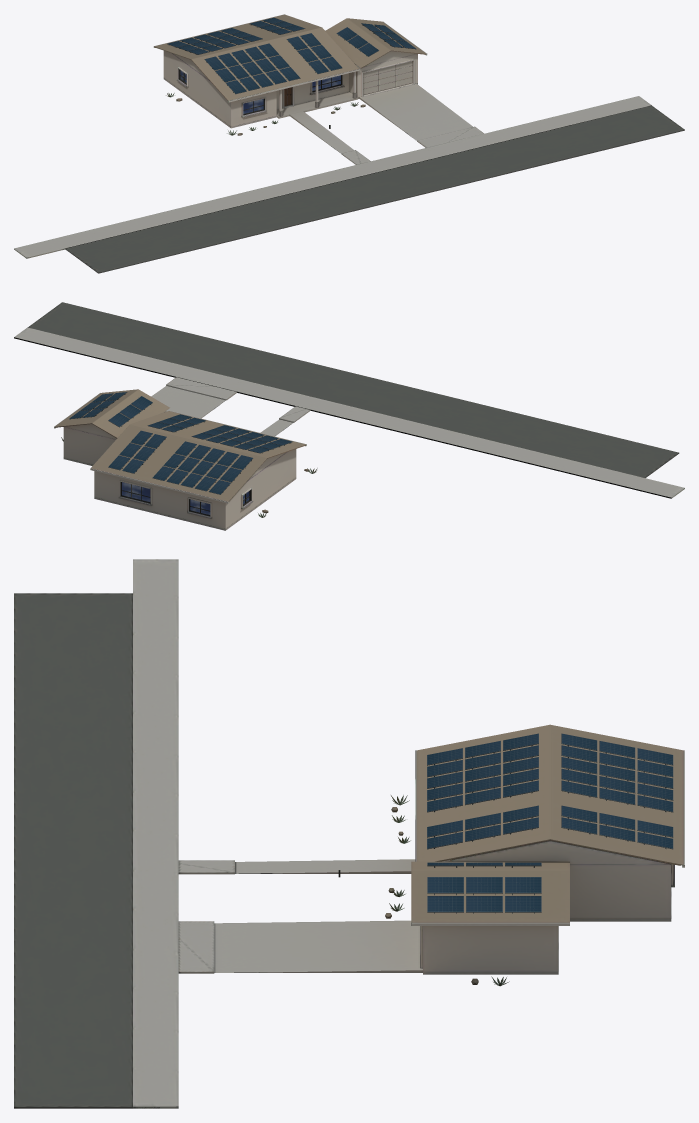
Rendered from house.glb.
3 renders of one model, top to bottom at view 1: azimuth 30°, elevation 25°; view 2: azimuth 150°, elevation 25°; view 3: azimuth 270°, elevation 25°, orthographic. The views are drawn at different scales.
Visible parts, largest first — view 1: ENV_STREET, ENV_SIDEWALK, PART_COBERTURA_PRINCIPAL, PART_CORPO_PRINCIPAL, PART_ACESSO_GARAGEM, PART_COBERTURA_GARAGEM, PART_PORTAO_GARAGEM, ENV_PAVEMENTCONNECTIONS, PART_CAMINHO_ENTRADA, PART_VARANDA, PART_GARAGEM; view 2: ENV_STREET, ENV_SIDEWALK, PART_COBERTURA_PRINCIPAL, PART_CORPO_PRINCIPAL, PART_COBERTURA_GARAGEM, PART_ACESSO_GARAGEM, PART_GARAGEM, ENV_PAVEMENTCONNECTIONS, PART_JANELA_FUNDOS_02, PART_BASE_APOIO_CORPO, PART_JANELA_FUNDOS_01; view 3: ENV_STREET, ENV_SIDEWALK, PART_COBERTURA_PRINCIPAL, PART_ACESSO_GARAGEM, PART_GARAGEM, PART_COBERTURA_GARAGEM, PART_CORPO_PRINCIPAL, ENV_PAVEMENTCONNECTIONS, PART_FECHAMENTO_EMPENAS_PRINCIPAL, PART_CAMINHO_ENTRADA.
Boxes of the visible parts, left/top/right/bottom form: ENV_STREET: left=65, top=105, right=684, bottom=273; ENV_SIDEWALK: left=14, top=96, right=651, bottom=258; PART_COBERTURA_PRINCIPAL: left=154, top=14, right=358, bottom=100; PART_CORPO_PRINCIPAL: left=163, top=50, right=349, bottom=126; PART_ACESSO_GARAGEM: left=359, top=83, right=472, bottom=140; PART_COBERTURA_GARAGEM: left=325, top=18, right=426, bottom=68; PART_PORTAO_GARAGEM: left=361, top=59, right=414, bottom=96; ENV_PAVEMENTCONNECTIONS: left=341, top=126, right=483, bottom=164; PART_CAMINHO_ENTRADA: left=289, top=111, right=353, bottom=153; PART_VARANDA: left=276, top=92, right=357, bottom=118; PART_GARAGEM: left=349, top=54, right=417, bottom=97; ENV_STREET: left=28, top=302, right=679, bottom=477; ENV_SIDEWALK: left=14, top=327, right=684, bottom=498; PART_COBERTURA_PRINCIPAL: left=91, top=411, right=306, bottom=501; PART_CORPO_PRINCIPAL: left=94, top=449, right=296, bottom=528; PART_COBERTURA_GARAGEM: left=55, top=389, right=169, bottom=438; PART_ACESSO_GARAGEM: left=151, top=385, right=225, bottom=418; PART_GARAGEM: left=63, top=427, right=115, bottom=464; ENV_PAVEMENTCONNECTIONS: left=166, top=377, right=310, bottom=422; PART_JANELA_FUNDOS_02: left=118, top=480, right=151, bottom=505; PART_BASE_APOIO_CORPO: left=94, top=477, right=296, bottom=530; PART_JANELA_FUNDOS_01: left=187, top=497, right=211, bottom=518; ENV_STREET: left=14, top=593, right=159, bottom=1108; ENV_SIDEWALK: left=133, top=559, right=178, bottom=1108; PART_COBERTURA_PRINCIPAL: left=416, top=724, right=683, bottom=865; PART_ACESSO_GARAGEM: left=214, top=920, right=422, bottom=972; PART_GARAGEM: left=423, top=926, right=558, bottom=971; PART_COBERTURA_GARAGEM: left=411, top=861, right=569, bottom=922; PART_CORPO_PRINCIPAL: left=570, top=864, right=671, bottom=918; ENV_PAVEMENTCONNECTIONS: left=178, top=860, right=234, bottom=973; PART_FECHAMENTO_EMPENAS_PRINCIPAL: left=452, top=840, right=670, bottom=864; PART_CAMINHO_ENTRADA: left=235, top=859, right=415, bottom=873.
Size of what is drawn, in the model's own units: 62.09 by 4.36 by 32.16.
Materials: 3 (3 with a texture image).
